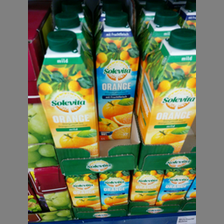juice: (36, 30, 99, 157), (138, 29, 196, 150), (95, 12, 140, 140)
